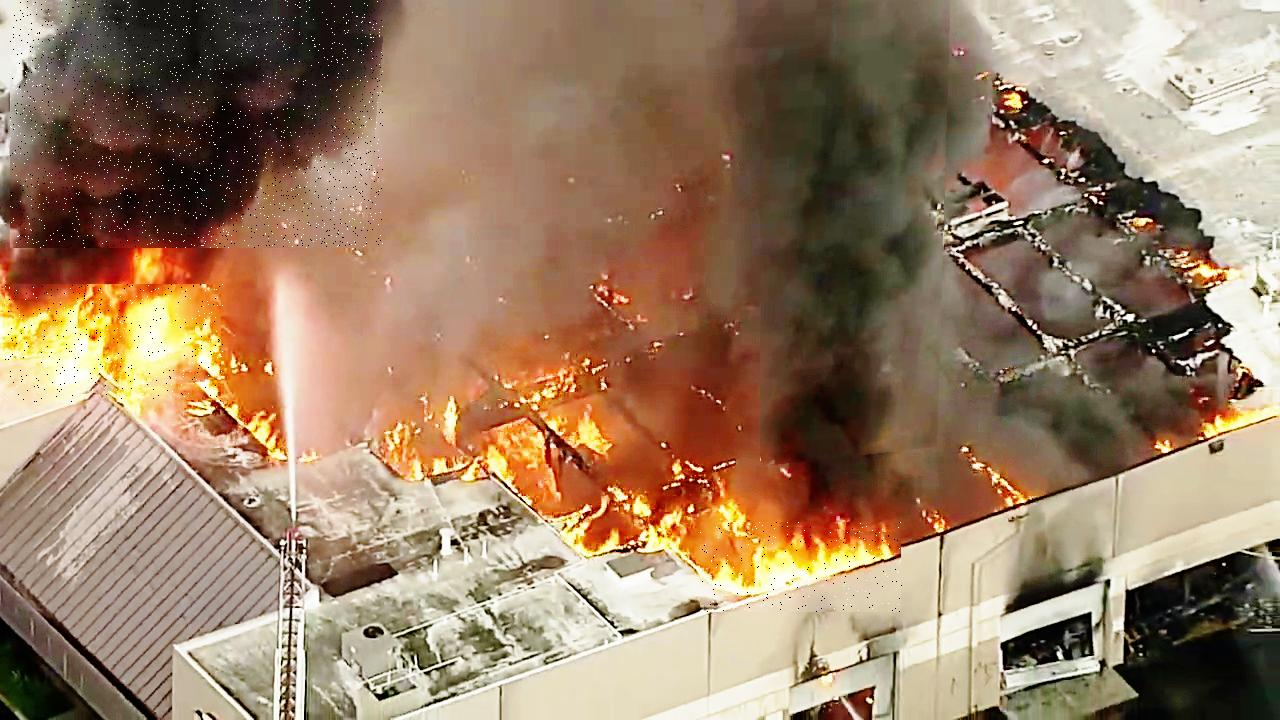fire: (6, 284, 224, 402), (701, 522, 904, 612)
smoke: (10, 0, 383, 248), (760, 0, 951, 468)
